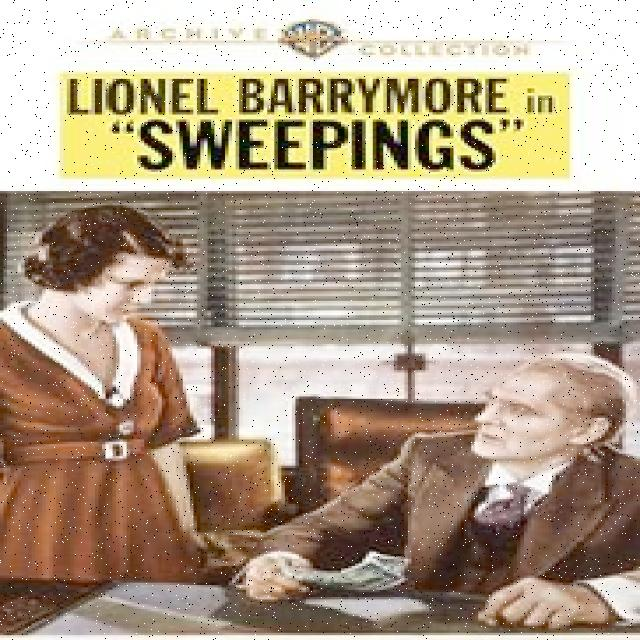movie-judul: (62, 71, 570, 180)
picture: (2, 190, 640, 639)
